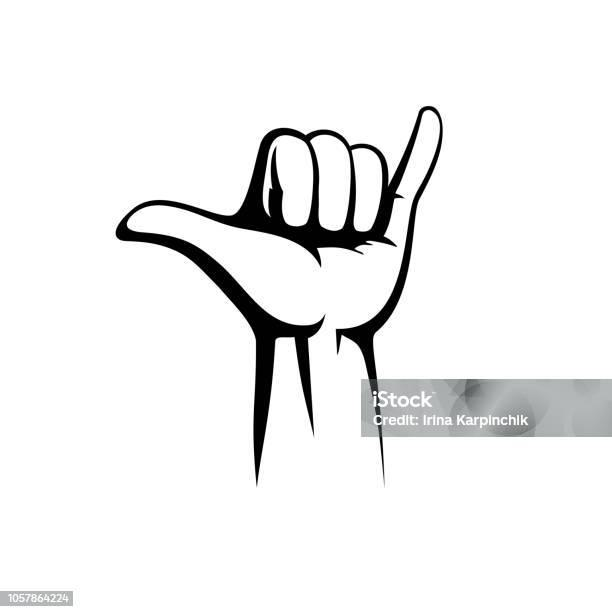subscribe-to-tem: (114, 104, 442, 337)
